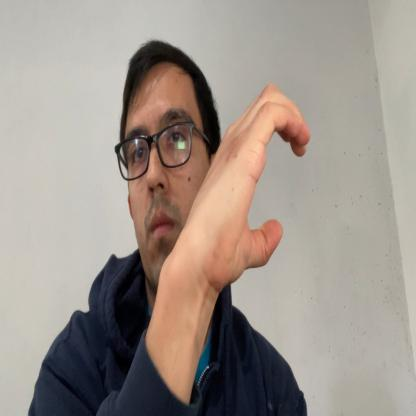C: (212, 83, 312, 284)
